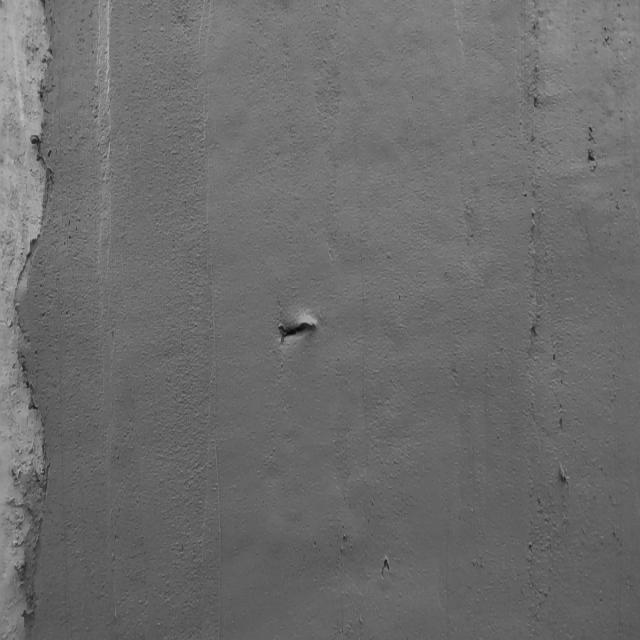trowels marks: (524, 9, 542, 364)
